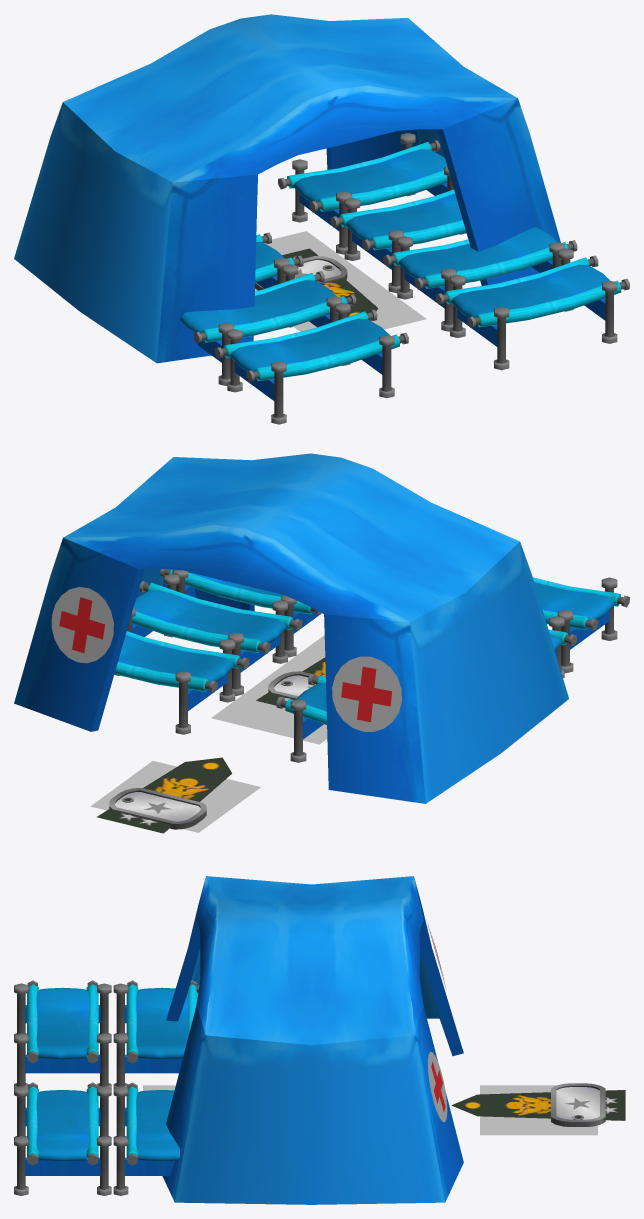
Rendered from MedicTent.fbx.
3 renders of one model, top to bottom at view 1: azimuth 30°, elevation 25°; view 2: azimuth 150°, elevation 25°; view 3: azimuth 270°, elevation 25°, orthographic. The views are drawn at different scales.
Parts seen in each view (by area): view 1: Medic_Tent_Base (×2), Medic_Tent_Roof (×2), Stretcher8 (×2), Stretcher7 (×2), Stretcher1 (×2), Stretcher5 (×2), Stretcher6 (×2), Stretcher3 (×2), AreaProgress (×2), Stretcher4, Ranks, Tag; view 2: Medic_Tent_Base (×2), Medic_Tent_Roof (×2), Stretcher3 (×2), Stretcher1 (×2), AreaProgress (×3), Stretcher8 (×2), Tag (×2), Stretcher5 (×2), Ranks, Stretcher2 (×2), Stretcher6; view 3: Medic_Tent_Base (×2), Medic_Tent_Roof (×2), Stretcher7 (×2), Stretcher8 (×2), Stretcher6 (×2), Stretcher5 (×2), Ranks, AreaProgress, Tag.
Part boxes in pixels (bbox=[...]): Medic_Tent_Base (×2): bbox=[14, 52, 560, 363]; Medic_Tent_Roof (×2): bbox=[63, 14, 517, 182]; Stretcher8 (×2): bbox=[214, 303, 408, 424]; Stretcher7 (×2): bbox=[436, 248, 629, 370]; Stretcher1 (×2): bbox=[278, 133, 453, 254]; Stretcher5 (×2): bbox=[383, 227, 577, 331]; Stretcher6 (×2): bbox=[180, 264, 356, 385]; Stretcher3 (×2): bbox=[330, 189, 466, 293]; AreaProgress (×2): bbox=[264, 231, 426, 331]; Stretcher4: bbox=[255, 232, 303, 288]; Ranks: bbox=[282, 248, 377, 320]; Tag: bbox=[255, 256, 347, 290]; Medic_Tent_Base (×2): bbox=[14, 501, 568, 803]; Medic_Tent_Roof (×2): bbox=[63, 453, 519, 622]; Stretcher3 (×2): bbox=[127, 574, 302, 695]; Stretcher1 (×2): bbox=[114, 631, 249, 734]; AreaProgress (×3): bbox=[90, 635, 327, 832]; Stretcher8 (×2): bbox=[533, 577, 629, 673]; Tag (×2): bbox=[109, 671, 319, 829]; Stretcher5 (×2): bbox=[160, 569, 321, 657]; Ranks: bbox=[96, 757, 231, 833]; Stretcher2 (×2): bbox=[276, 674, 326, 762]; Stretcher6: bbox=[548, 616, 576, 677]; Medic_Tent_Base (×2): bbox=[162, 879, 463, 1204]; Medic_Tent_Roof (×2): bbox=[196, 876, 423, 1045]; Stretcher7 (×2): bbox=[14, 1082, 111, 1195]; Stretcher8 (×2): bbox=[14, 980, 111, 1088]; Stretcher6 (×2): bbox=[113, 980, 199, 1087]; Stretcher5 (×2): bbox=[113, 1082, 179, 1195]; Ranks: bbox=[451, 1090, 625, 1120]; AreaProgress: bbox=[480, 1085, 597, 1135]; Tag: bbox=[551, 1083, 605, 1126].
Size of the model in its own units: 7.76 by 3.81 by 10.44.
4 materials, 3 textured.
